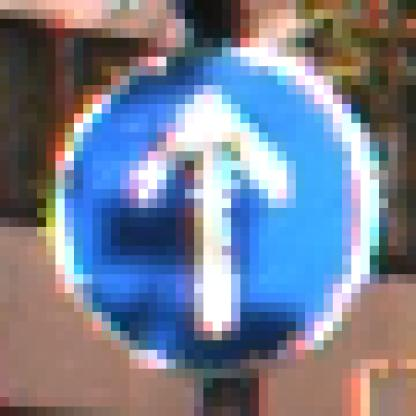AheadOnly: (47, 48, 371, 370)
